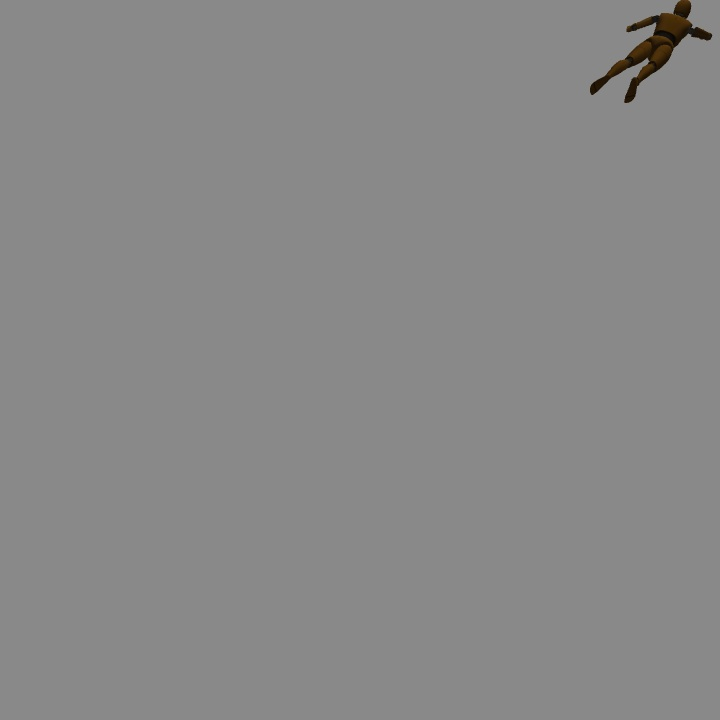victim: (593, 1, 712, 103)
